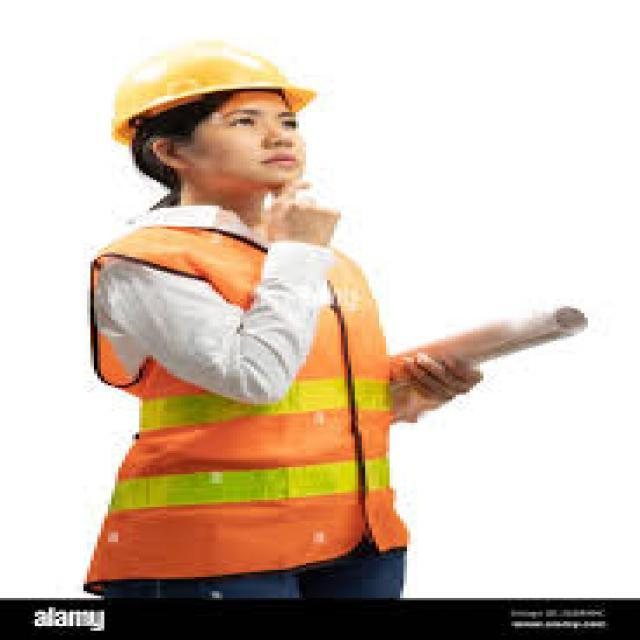safetyhelmet: (107, 30, 326, 206)
